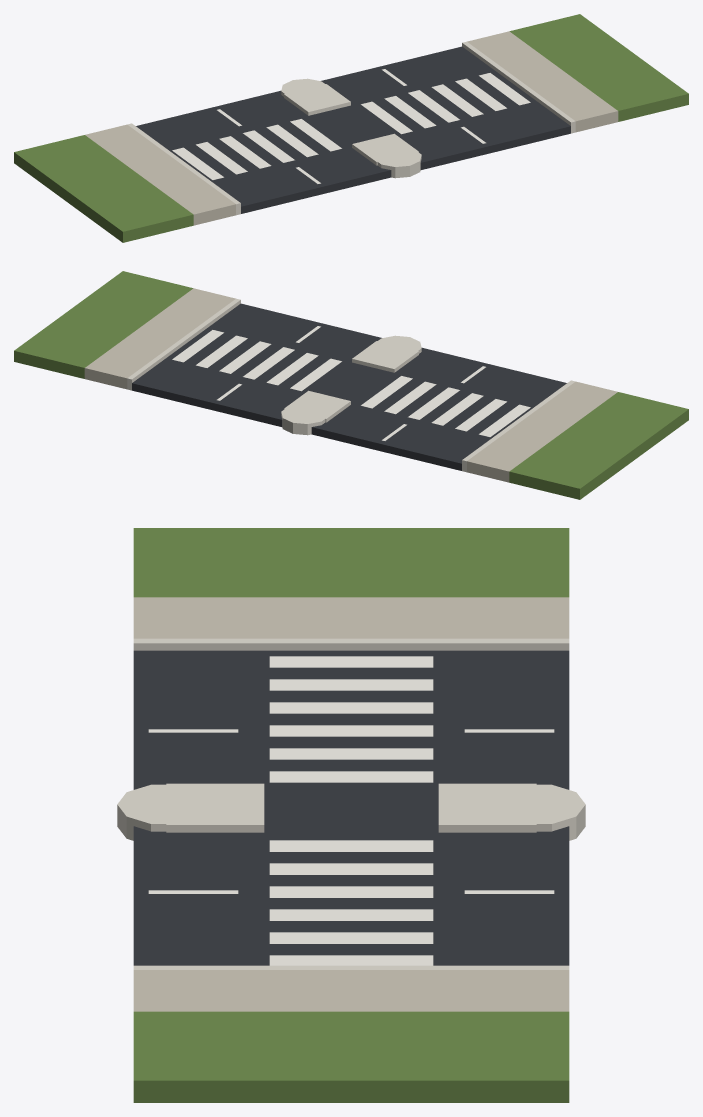
Rendered from Road_4Lane_Sidewalk_PedestrianIsland_8m.glb.
The picture shows the model from 3 angles, top to bottom: view 1: azimuth 30°, elevation 25°; view 2: azimuth 150°, elevation 25°; view 3: azimuth 270°, elevation 25°; orthographic projection. The views are drawn at different scales.
Parts seen in each view (by area): view 1: Road_4Lane_Sidewalk_PedestrianIsland_8m_Asphalt, Road_4Lane_Sidewalk_PedestrianIsland_8m_Grass-edge, Road_4Lane_Sidewalk_PedestrianIsland_8m_Sidewalk, Road_4Lane_Sidewalk_PedestrianIsland_8m_PaintWhite, Road_4Lane_Sidewalk_PedestrianIsland_8m_Curb; view 2: Road_4Lane_Sidewalk_PedestrianIsland_8m_Asphalt, Road_4Lane_Sidewalk_PedestrianIsland_8m_Grass-edge, Road_4Lane_Sidewalk_PedestrianIsland_8m_Sidewalk, Road_4Lane_Sidewalk_PedestrianIsland_8m_PaintWhite, Road_4Lane_Sidewalk_PedestrianIsland_8m_Curb; view 3: Road_4Lane_Sidewalk_PedestrianIsland_8m_Asphalt, Road_4Lane_Sidewalk_PedestrianIsland_8m_Grass-edge, Road_4Lane_Sidewalk_PedestrianIsland_8m_Sidewalk, Road_4Lane_Sidewalk_PedestrianIsland_8m_PaintWhite, Road_4Lane_Sidewalk_PedestrianIsland_8m_Curb.
Part boxes in pixels (left/top/right/bottom): Road_4Lane_Sidewalk_PedestrianIsland_8m_Asphalt: left=136, top=46, right=570, bottom=213; Road_4Lane_Sidewalk_PedestrianIsland_8m_Grass-edge: left=14, top=14, right=688, bottom=242; Road_4Lane_Sidewalk_PedestrianIsland_8m_Sidewalk: left=85, top=31, right=618, bottom=225; Road_4Lane_Sidewalk_PedestrianIsland_8m_PaintWhite: left=172, top=69, right=530, bottom=183; Road_4Lane_Sidewalk_PedestrianIsland_8m_Curb: left=127, top=41, right=575, bottom=215; Road_4Lane_Sidewalk_PedestrianIsland_8m_Asphalt: left=132, top=303, right=566, bottom=470; Road_4Lane_Sidewalk_PedestrianIsland_8m_Grass-edge: left=14, top=271, right=688, bottom=499; Road_4Lane_Sidewalk_PedestrianIsland_8m_Sidewalk: left=84, top=288, right=617, bottom=482; Road_4Lane_Sidewalk_PedestrianIsland_8m_PaintWhite: left=172, top=326, right=530, bottom=440; Road_4Lane_Sidewalk_PedestrianIsland_8m_Curb: left=127, top=298, right=575, bottom=472; Road_4Lane_Sidewalk_PedestrianIsland_8m_Asphalt: left=133, top=650, right=569, bottom=965; Road_4Lane_Sidewalk_PedestrianIsland_8m_Grass-edge: left=133, top=528, right=569, bottom=1102; Road_4Lane_Sidewalk_PedestrianIsland_8m_Sidewalk: left=133, top=597, right=569, bottom=1011; Road_4Lane_Sidewalk_PedestrianIsland_8m_PaintWhite: left=148, top=656, right=554, bottom=965; Road_4Lane_Sidewalk_PedestrianIsland_8m_Curb: left=117, top=638, right=585, bottom=969.
Bounding box in the file's own units: 24 × 0.45 × 8.6.
